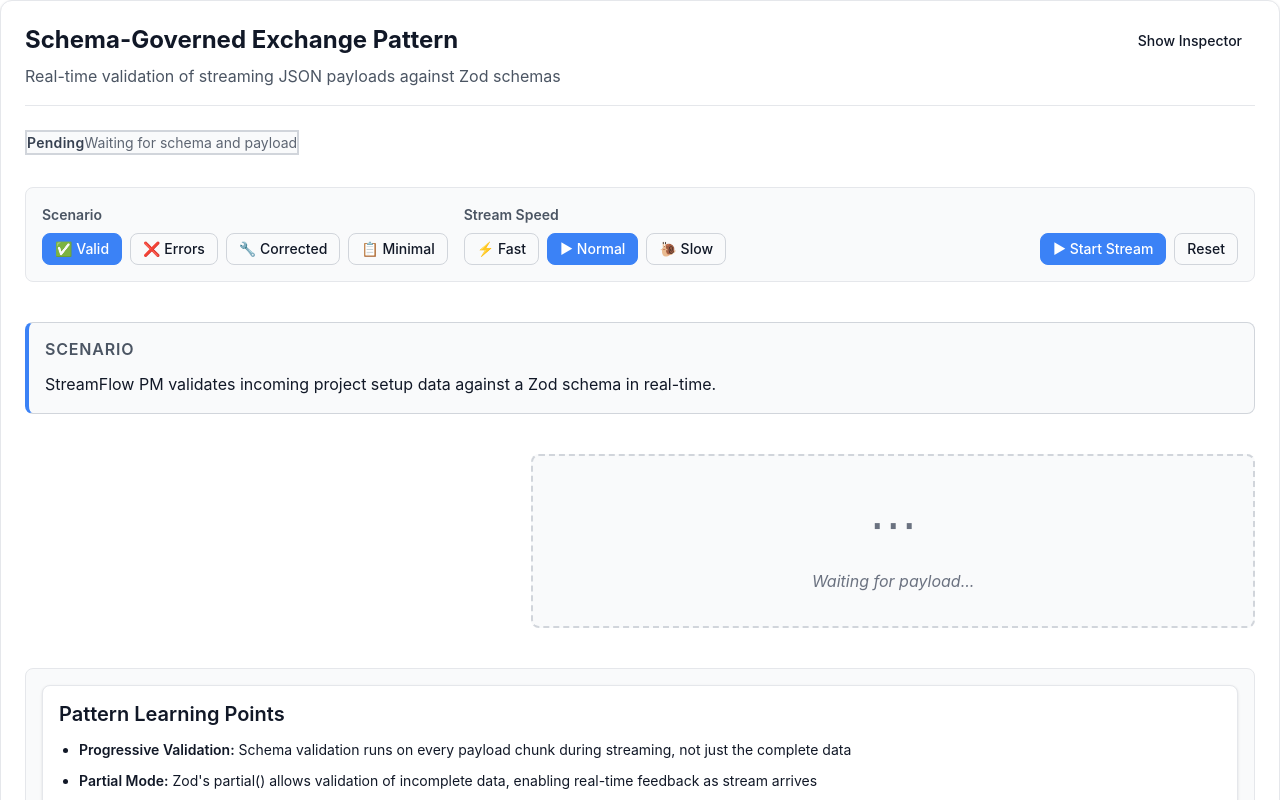
it: SchemaExchangeDemo › should stop stream when Stop button is clicked
Click the button "▶ Start Stream".
click(1103, 249)  # box 1040,233 -> 1166,265
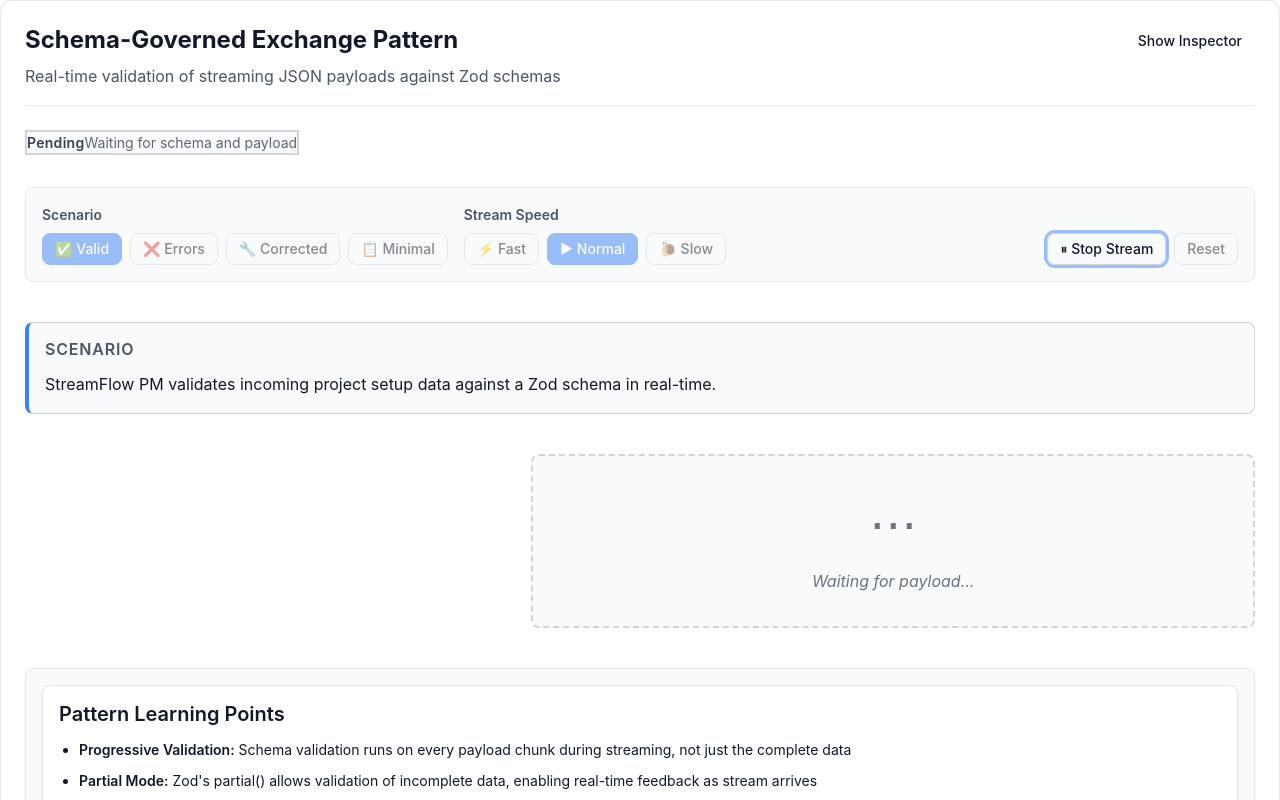
Now the button "⏸ Stop Stream" is shown
Click the button "⏸ Stop Stream".
click(1107, 249)  # box 1047,233 -> 1166,265
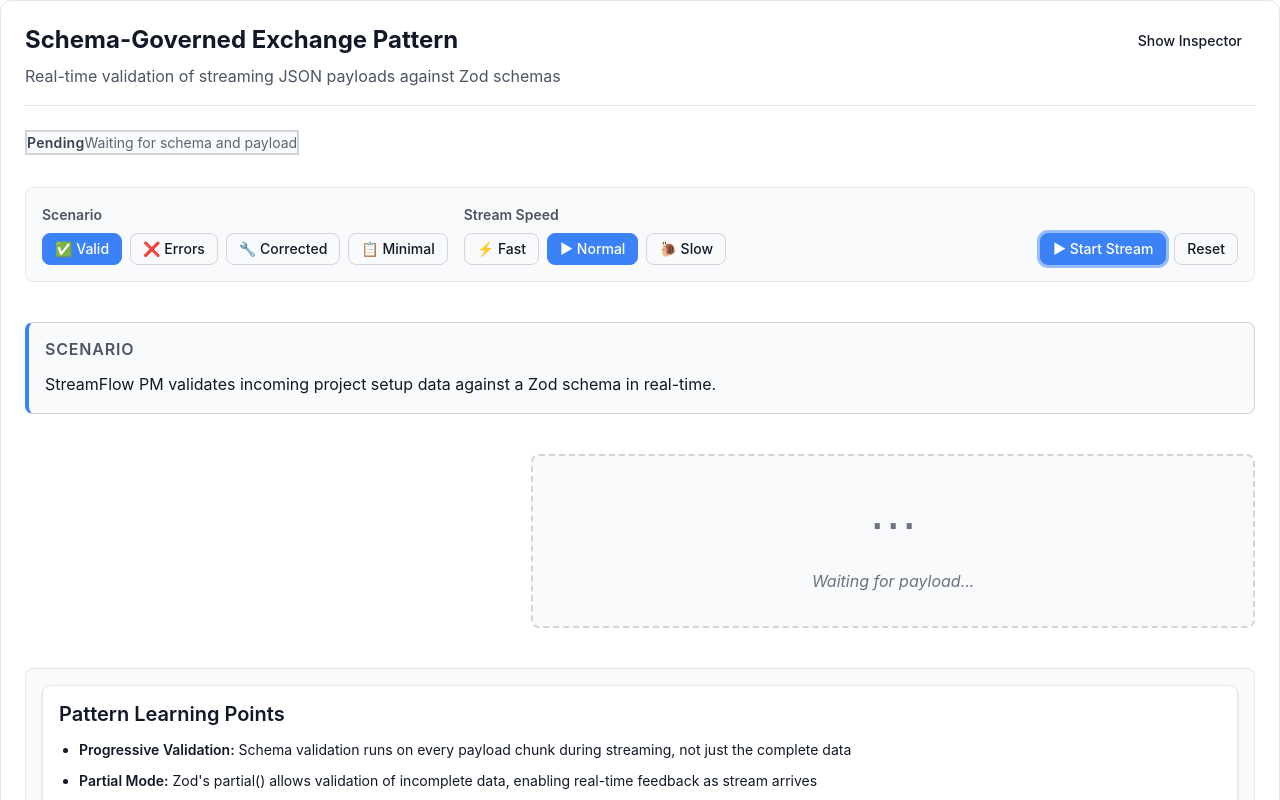
Now the button "▶ Start Stream" is shown, box 1040,233 -> 1166,265
